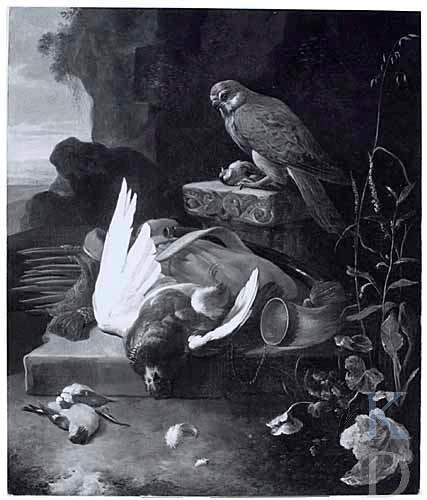bird: (93, 175, 262, 377), (209, 82, 354, 233)
